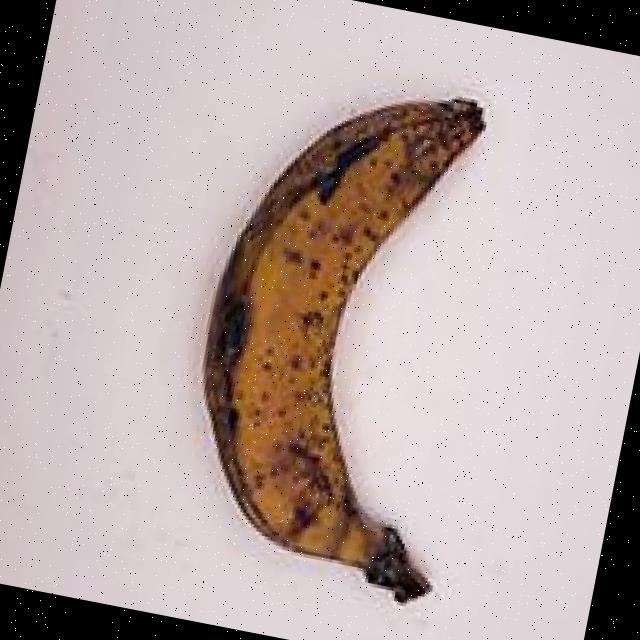Overripe: (129, 22, 562, 634)
